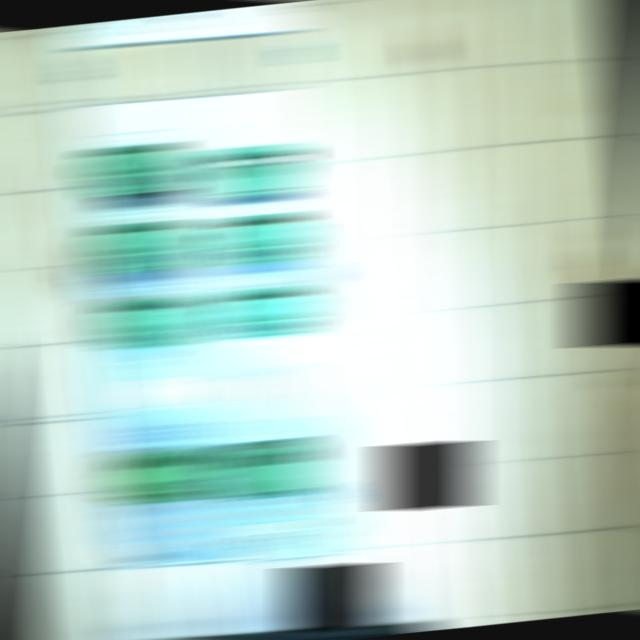Terminal_1: (217, 441, 319, 501), (110, 449, 213, 504)
Terminal_2: (89, 219, 189, 272), (211, 211, 309, 265), (82, 143, 182, 195), (218, 285, 314, 338), (97, 297, 195, 348)
